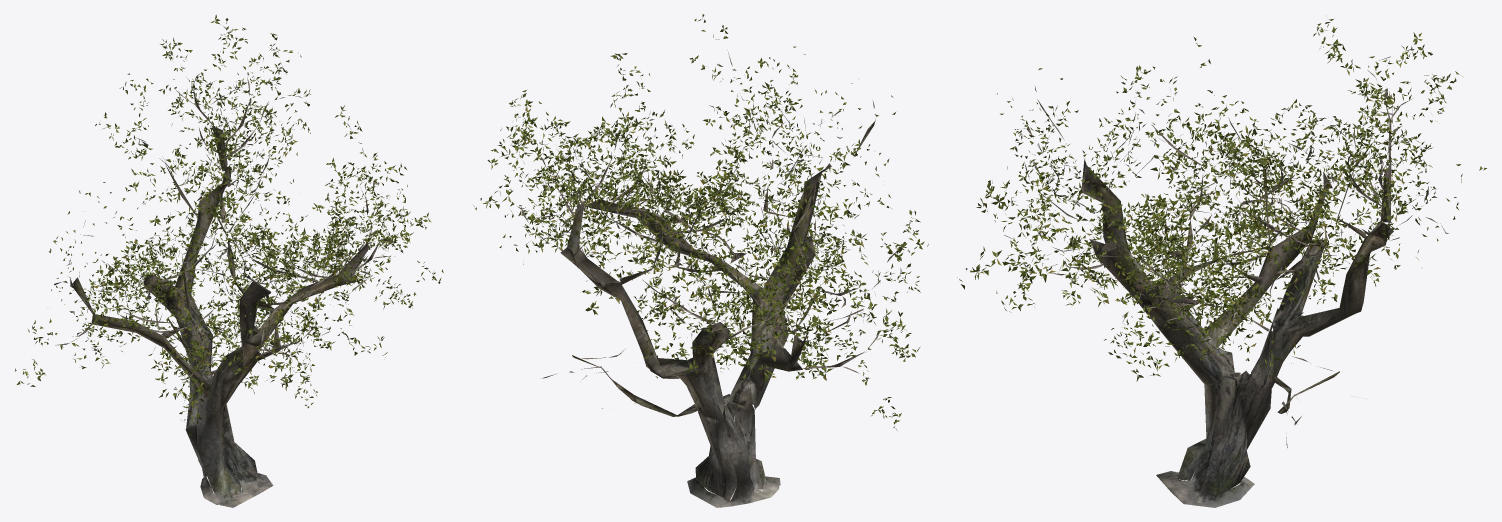
The model's file is tree_big_a.glb.
3 views of the same model, side by side, from view 1: azimuth 30°, elevation 25°; view 2: azimuth 150°, elevation 25°; view 3: azimuth 270°, elevation 25° (orthographic). The views are drawn at different scales.
Visible parts, largest first — view 1: island_tree_01_LOD0; view 2: island_tree_01_LOD0; view 3: island_tree_01_LOD0.
Boxes of the visible parts, box(x1,y1,x2,y2) form: island_tree_01_LOD0: box(15, 14, 443, 507); island_tree_01_LOD0: box(473, 14, 928, 507); island_tree_01_LOD0: box(957, 19, 1486, 507).
Bounding box in the file's own units: 4.69 × 4.99 × 4.79.
3 materials, 3 textured.
